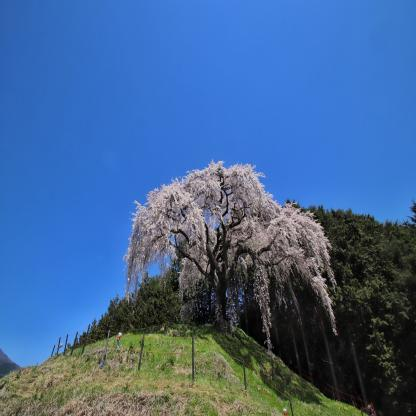ShidareZakura: (122, 159, 338, 357)
